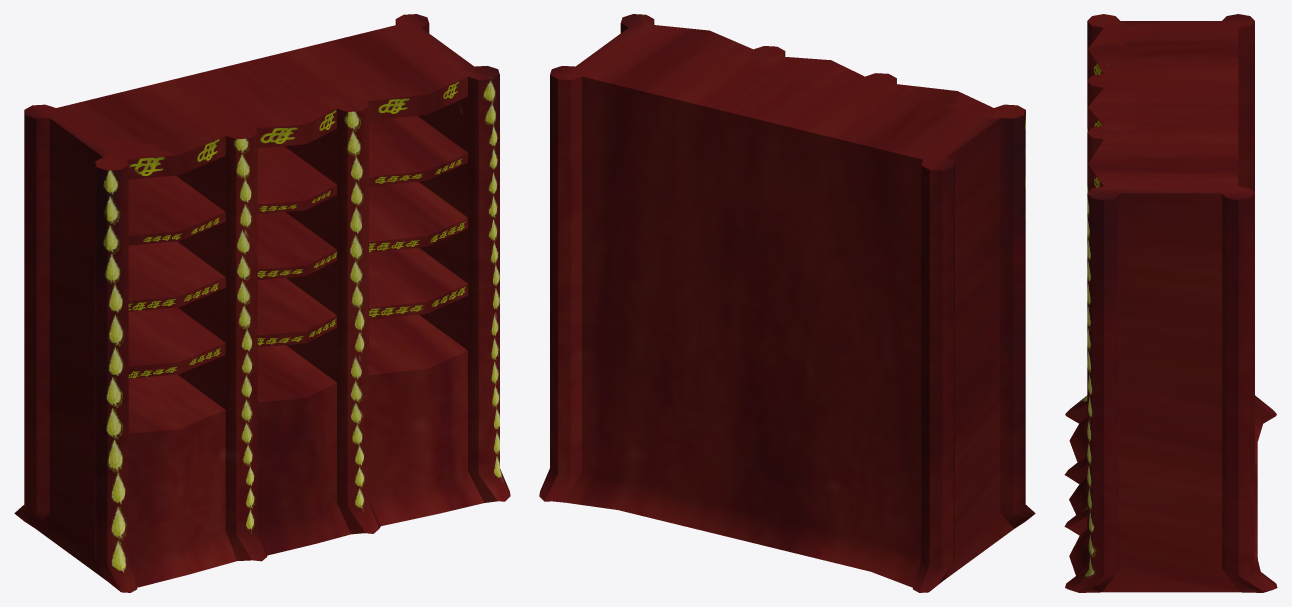
File: woodbookcase.fbx
3 renders of one model, left to right at view 1: azimuth 30°, elevation 25°; view 2: azimuth 150°, elevation 25°; view 3: azimuth 270°, elevation 25°, orthographic. The views are drawn at different scales.
Parts seen in each view (by area): view 1: bookcase; view 2: bookcase; view 3: bookcase.
Part boxes in pixels (left/top/right/bottom): bookcase: left=14, top=14, right=510, bottom=592; bookcase: left=539, top=14, right=1035, bottom=592; bookcase: left=1064, top=14, right=1277, bottom=592.
Bounding box in the file's own units: 38.27 × 38.12 × 18.5.
